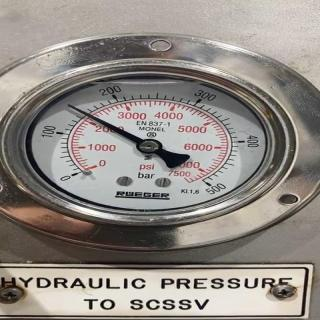gauge: (0, 60, 320, 229), (22, 315, 258, 319), (69, 160, 97, 188), (176, 172, 200, 189), (137, 138, 161, 154), (64, 102, 76, 112)
